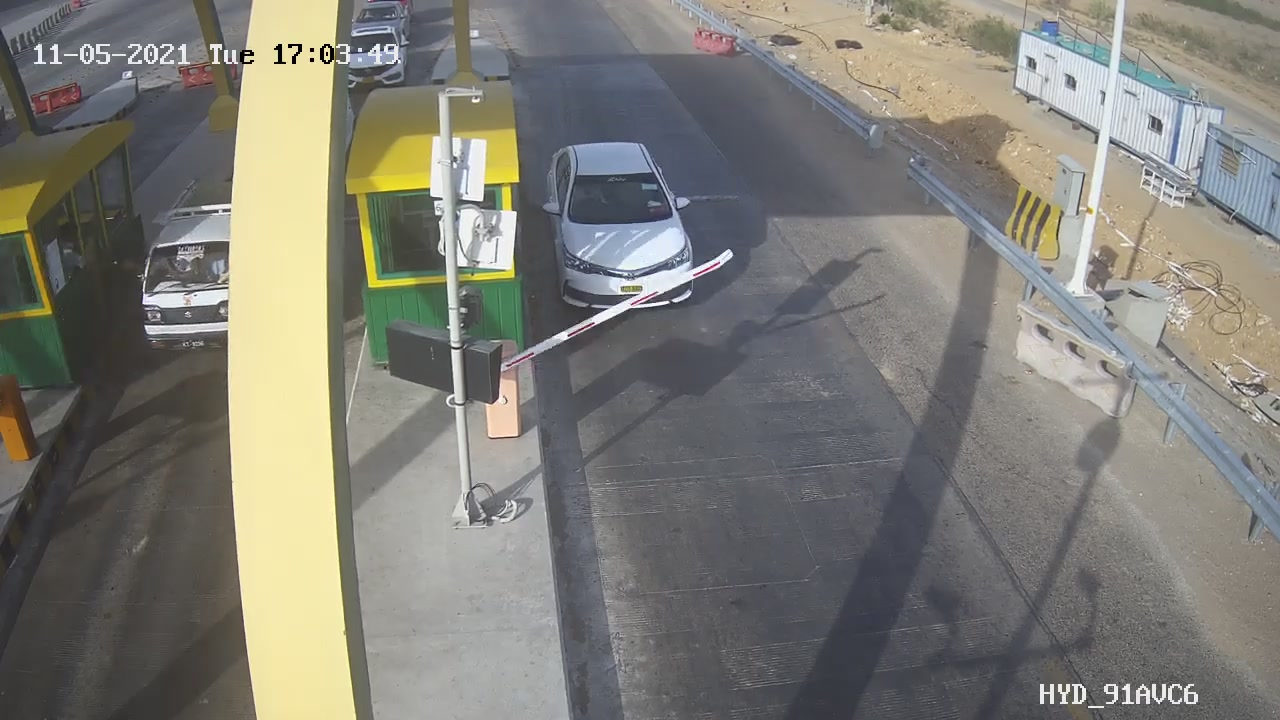F1: (529, 129, 716, 330)
